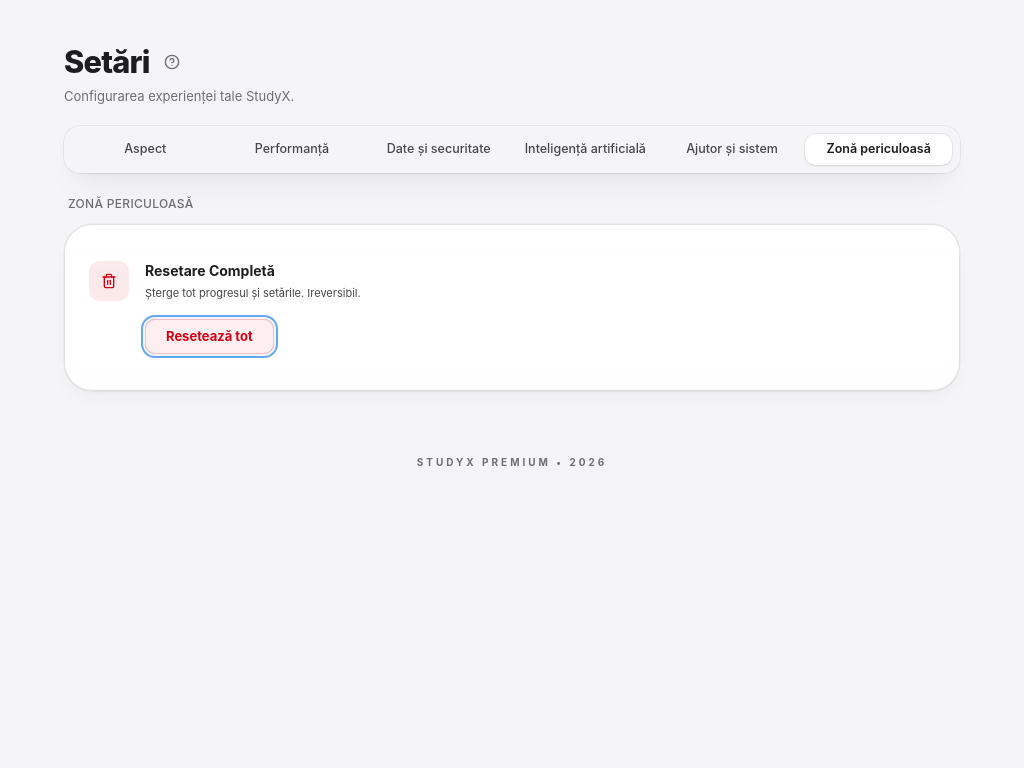
opens reset safely and restores focus and scrolling when dismissed with Escape
This screenshot has width=1024, height=768.
Click the button "Resetează tot" at (209, 336), box [145,319,274,354]
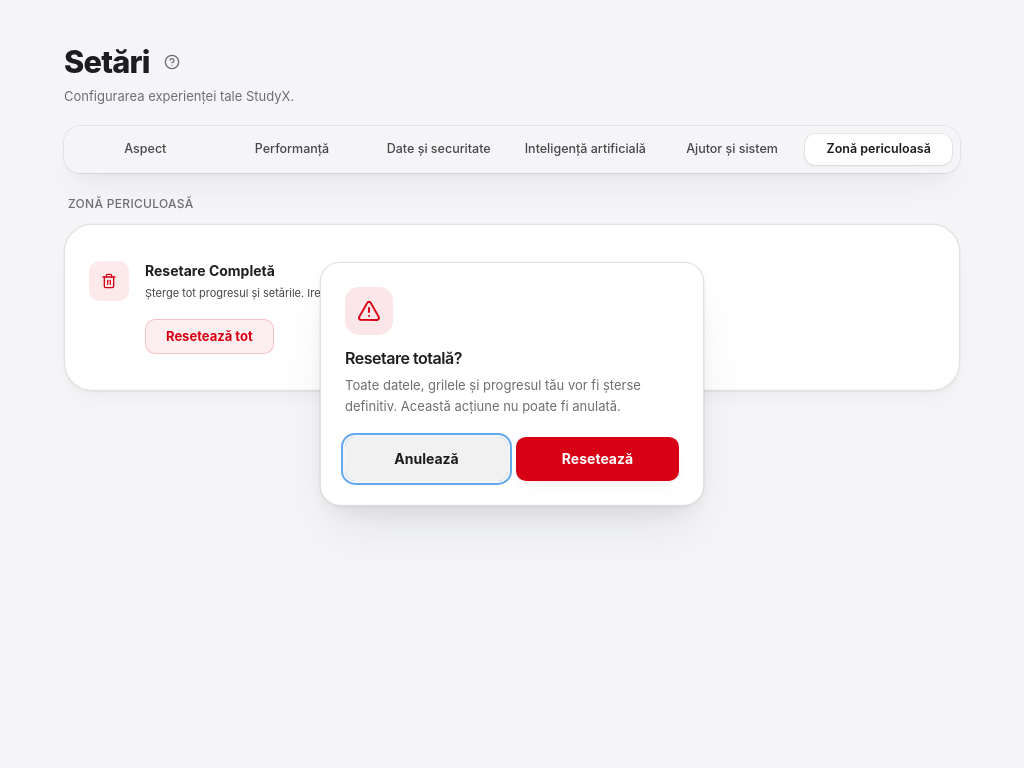
Press Escape
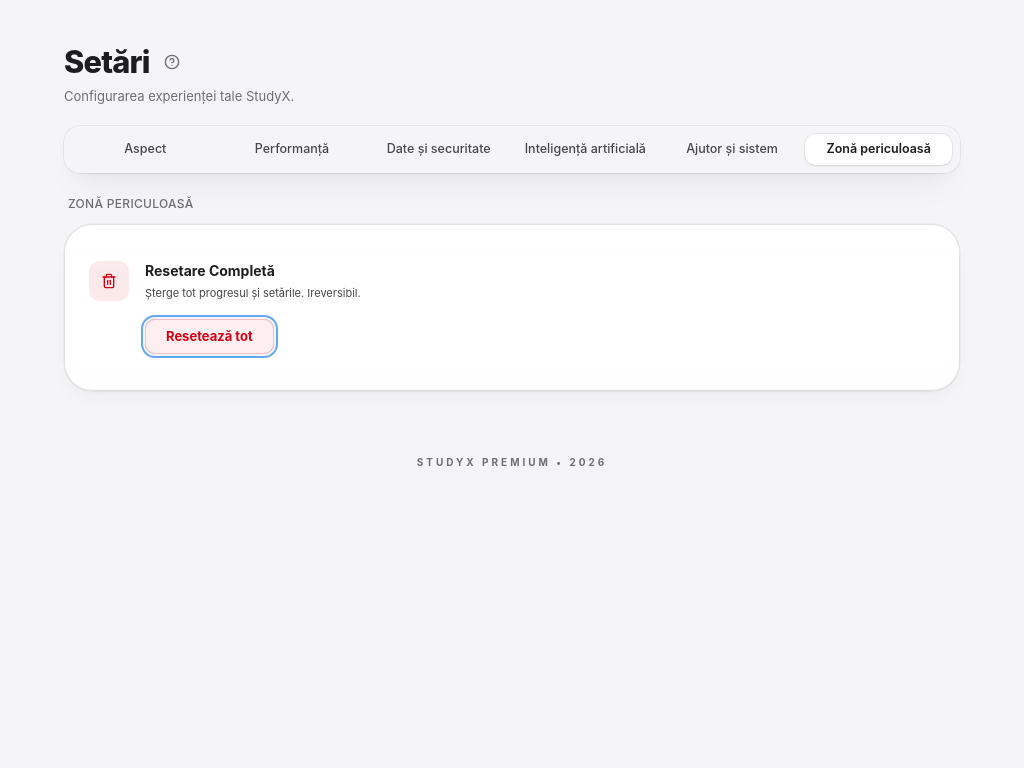
Now the dialog is gone
